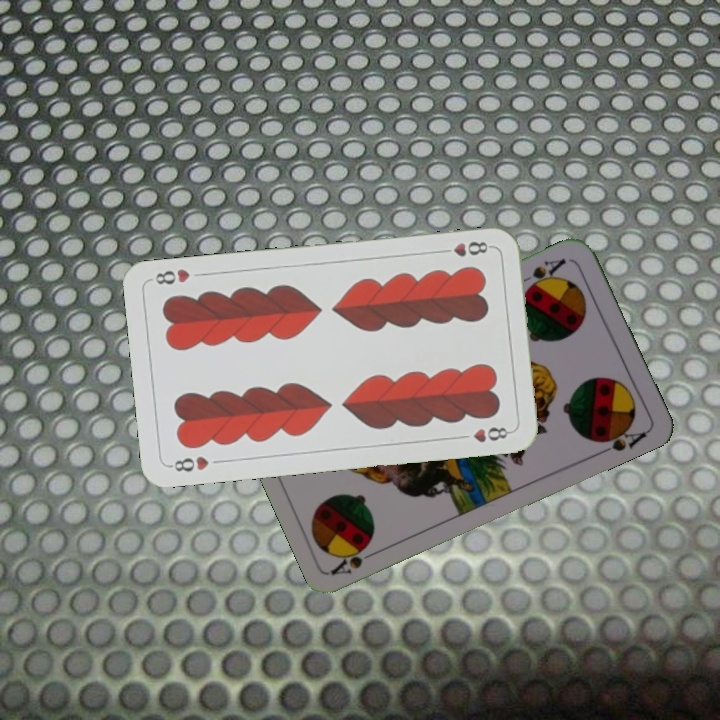H8: (436, 237, 494, 259), (165, 452, 212, 474)
SA: (328, 538, 385, 578), (521, 254, 569, 294)
